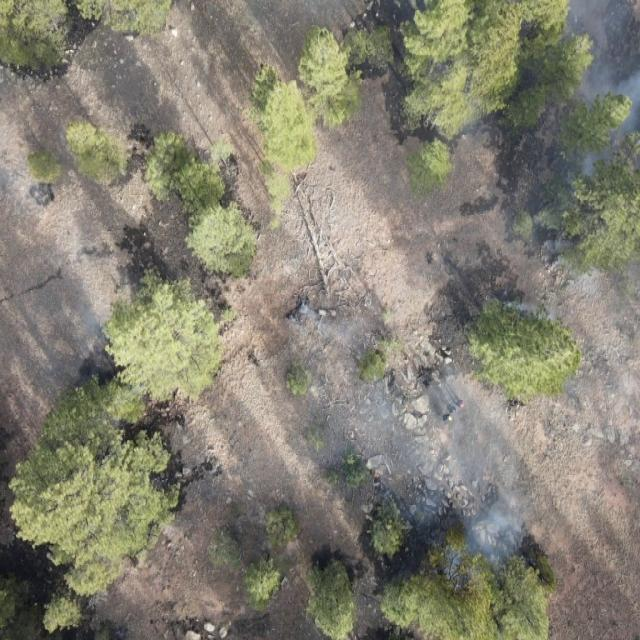smoke: (298, 348, 522, 578), (521, 0, 640, 205), (30, 236, 120, 366), (506, 235, 608, 333), (278, 289, 370, 352)
